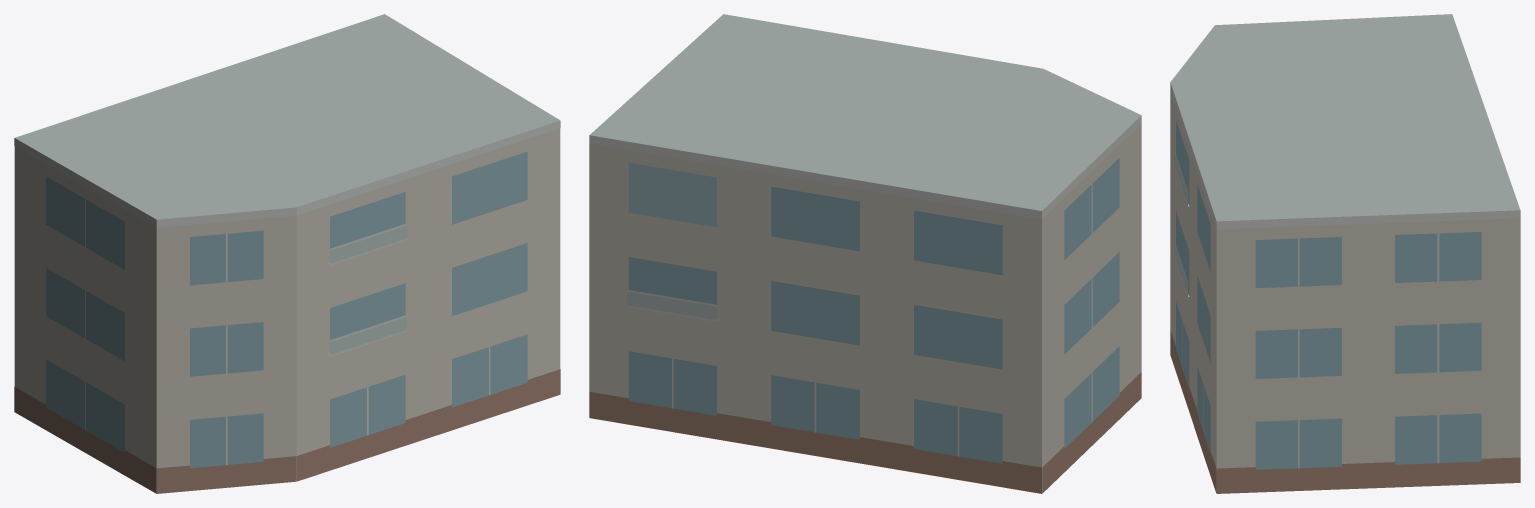
The model's file is survey-upis-33007277.glb.
3 renders of one model, left to right at view 1: azimuth 30°, elevation 25°; view 2: azimuth 150°, elevation 25°; view 3: azimuth 270°, elevation 25°, orthographic. The views are drawn at different scales.
Parts seen in each view (by area): view 1: survey-upis-33007277.tmp; view 2: survey-upis-33007277.tmp; view 3: survey-upis-33007277.tmp.
Boxes of the visible parts, bbox=[...] form: survey-upis-33007277.tmp: bbox=[14, 14, 560, 493]; survey-upis-33007277.tmp: bbox=[589, 14, 1141, 493]; survey-upis-33007277.tmp: bbox=[1170, 14, 1520, 493].
Bounding box in the file's own units: 13.67 × 8.37 × 9.76.
